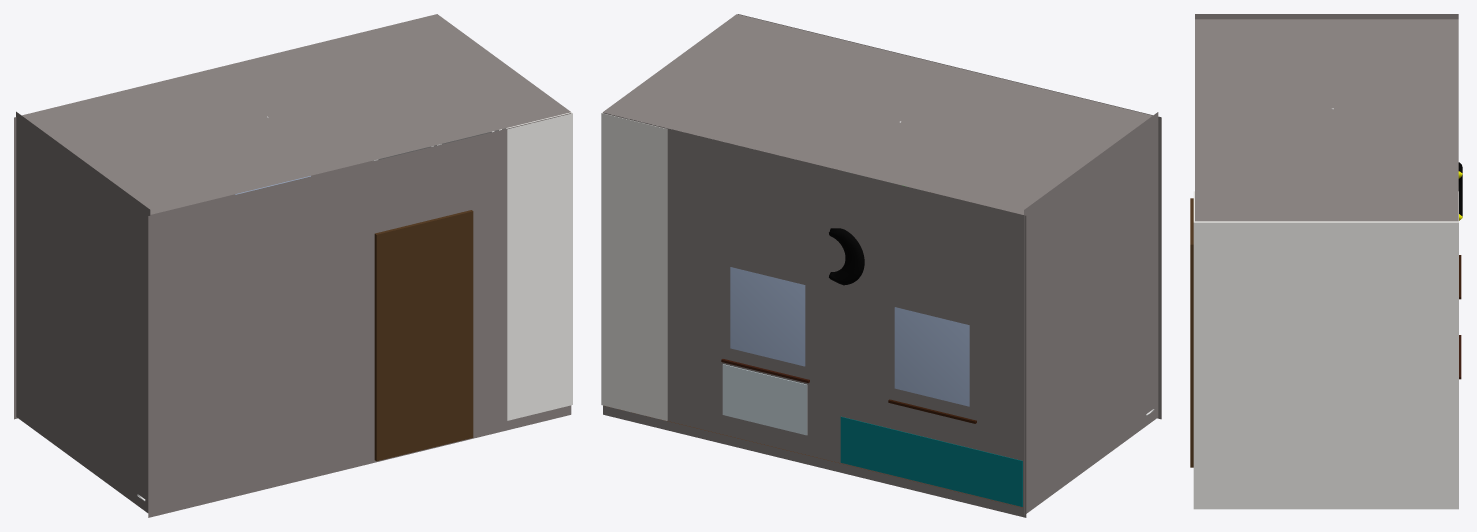
File: bierkoblend3.fbx
3 renders of one model, left to right at view 1: azimuth 30°, elevation 25°; view 2: azimuth 150°, elevation 25°; view 3: azimuth 270°, elevation 25°, orthographic.
Parts seen in each view (by area): view 1: Plane.025, Plane.020, Plane.027, Cube.034, Cube.036, Plane.018; view 2: Plane.018, Plane.020, Plane.027, Cube.036, Cube.020, Cube.032, Cube.033, Cube.042, Plane.025, Torus.008; view 3: Cube.036, Plane.020, Plane.027, Cube.034.
Part boxes in pixels (x1,y1,x2,y2): Plane.025: (148, 113, 571, 517); Plane.020: (22, 14, 570, 214); Plane.027: (16, 111, 150, 512); Cube.034: (374, 210, 473, 461); Cube.036: (440, 112, 572, 420); Plane.018: (14, 117, 372, 419); Plane.018: (603, 112, 1026, 517); Plane.020: (603, 14, 1152, 214); Plane.027: (1024, 112, 1158, 515); Cube.036: (601, 112, 667, 420); Cube.020: (840, 416, 1022, 506); Cube.032: (894, 307, 969, 406); Cube.033: (730, 267, 805, 366); Cube.042: (722, 364, 807, 435); Plane.025: (738, 14, 1161, 419); Torus.008: (829, 228, 864, 285); Cube.036: (1193, 191, 1458, 509); Plane.020: (1195, 19, 1458, 221); Plane.027: (1195, 14, 1458, 19); Cube.034: (1190, 198, 1193, 467).
Bounding box in the file's own units: 1892 × 1308 × 1070.
